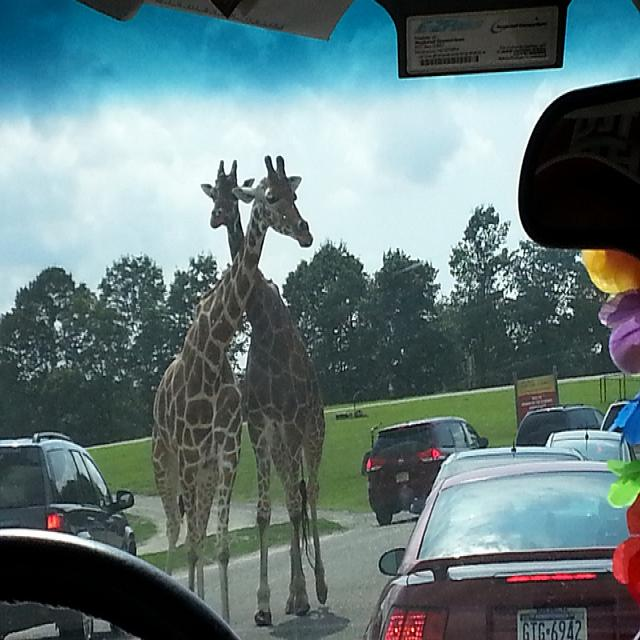Vehicle: (364, 456, 638, 631), (0, 529, 234, 634), (0, 441, 142, 554), (362, 416, 490, 526), (432, 432, 589, 490), (516, 406, 609, 447), (546, 429, 638, 462), (604, 400, 631, 429)
